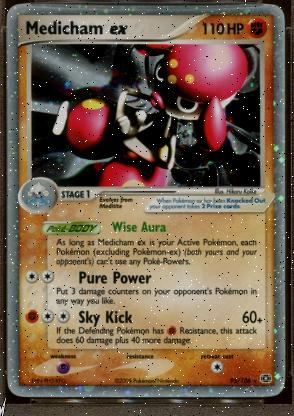Card: (4, 1, 286, 397)
